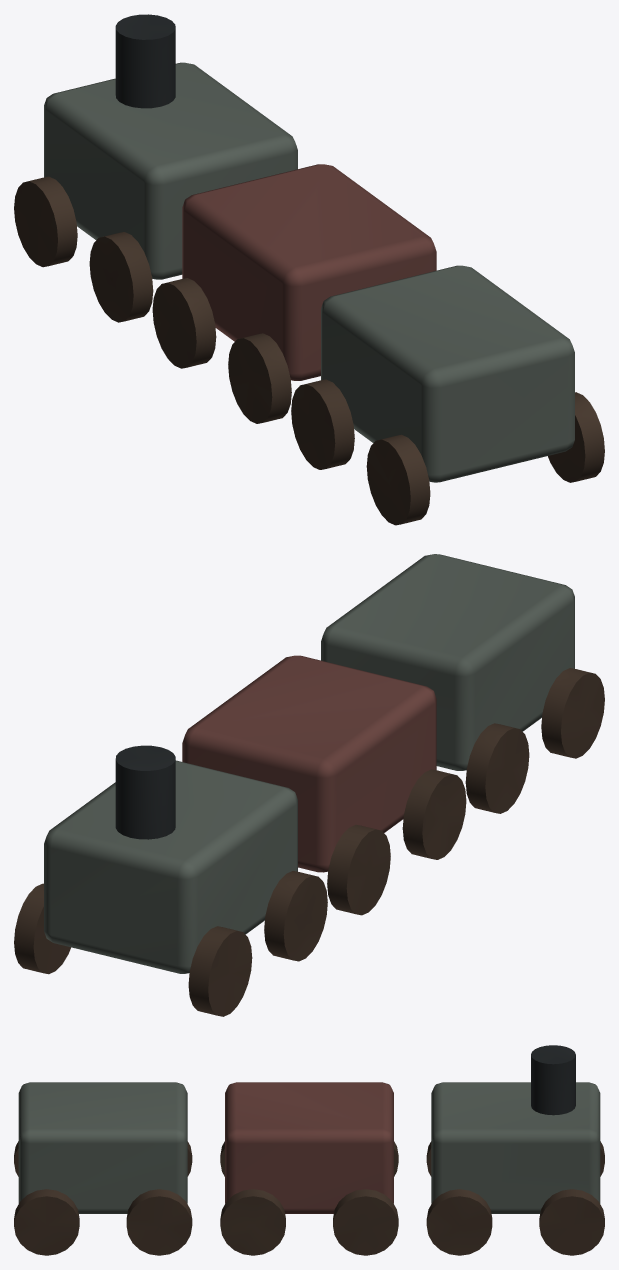
Rendered from prop-toy-train-v01.glb.
The picture shows the model from 3 angles, top to bottom: view 1: azimuth 30°, elevation 25°; view 2: azimuth 150°, elevation 25°; view 3: azimuth 270°, elevation 25°; orthographic projection. The views are drawn at different scales.
Parts seen in each view (by area): view 1: toy-train; view 2: toy-train; view 3: toy-train.
Part boxes in pixels (x1,y1,x2,y2): toy-train: (14,14,604,525); toy-train: (14,554,604,1016); toy-train: (14,1045,604,1255).
Bounding box in the file's own units: 0.178 × 0.195 × 0.63.
